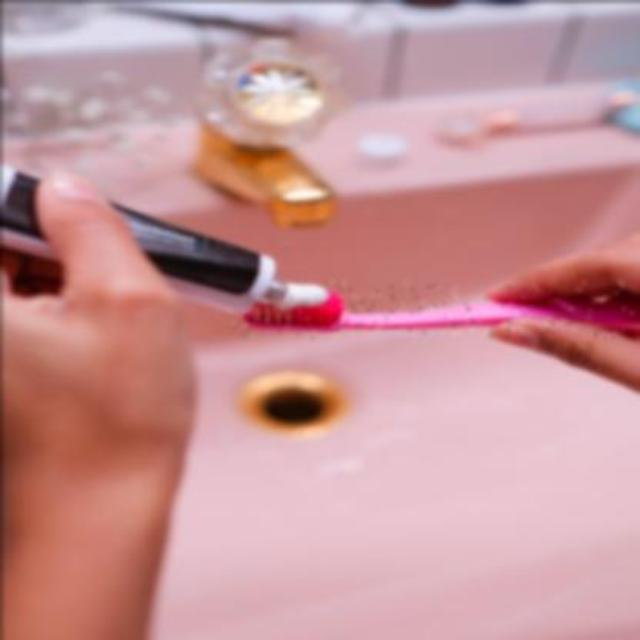toothbrush: (232, 280, 640, 336)
